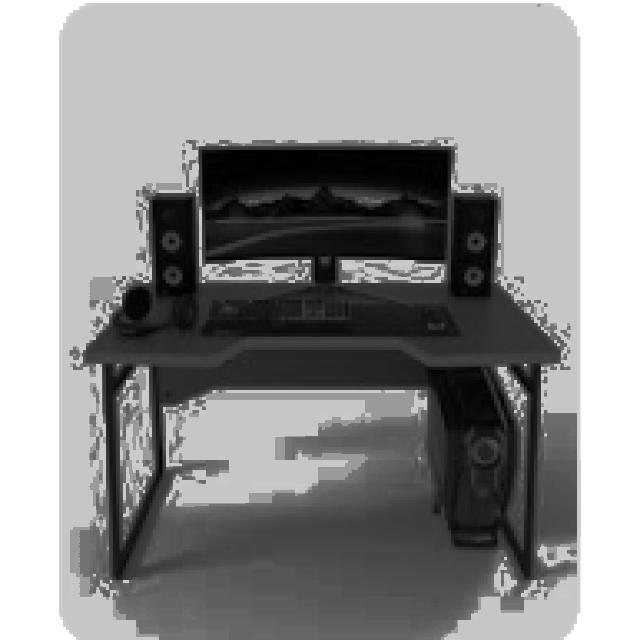table: (83, 277, 557, 580)
